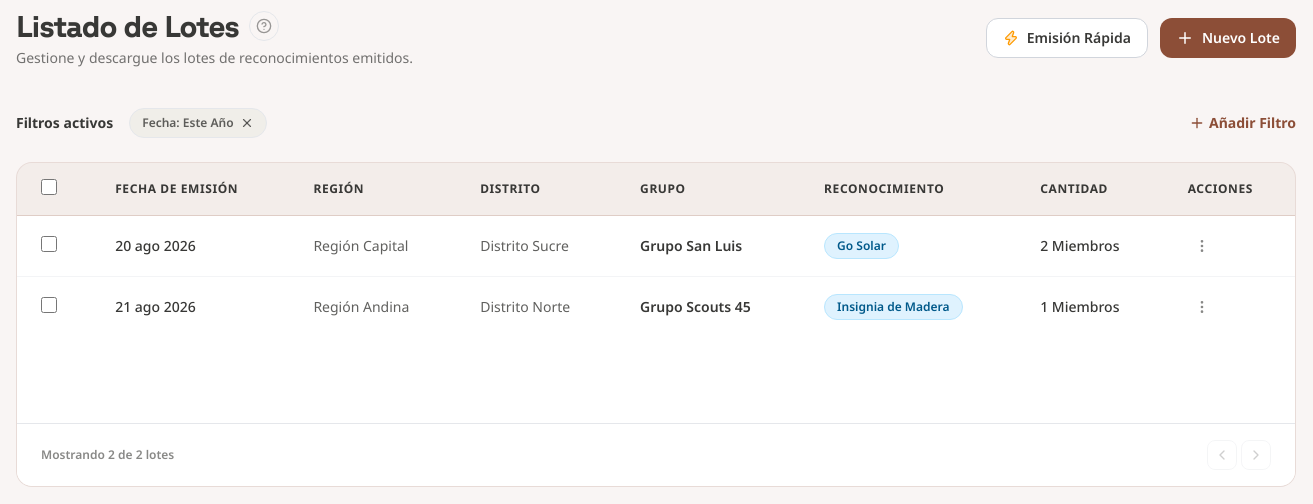
Test case: BatchList component › renders only single 3-dots actions button per row and no loose action icon buttons
Expected: the text "Grupo San Luis" is shown, [640,236,742,255]
Expected: the button named "Acciones del lote 102" is shown, [1188,293,1216,321]
Note: Open dropdown for row 101
Click the button named "Acciones del lote 101": (1202, 246) [1188,232,1216,260]
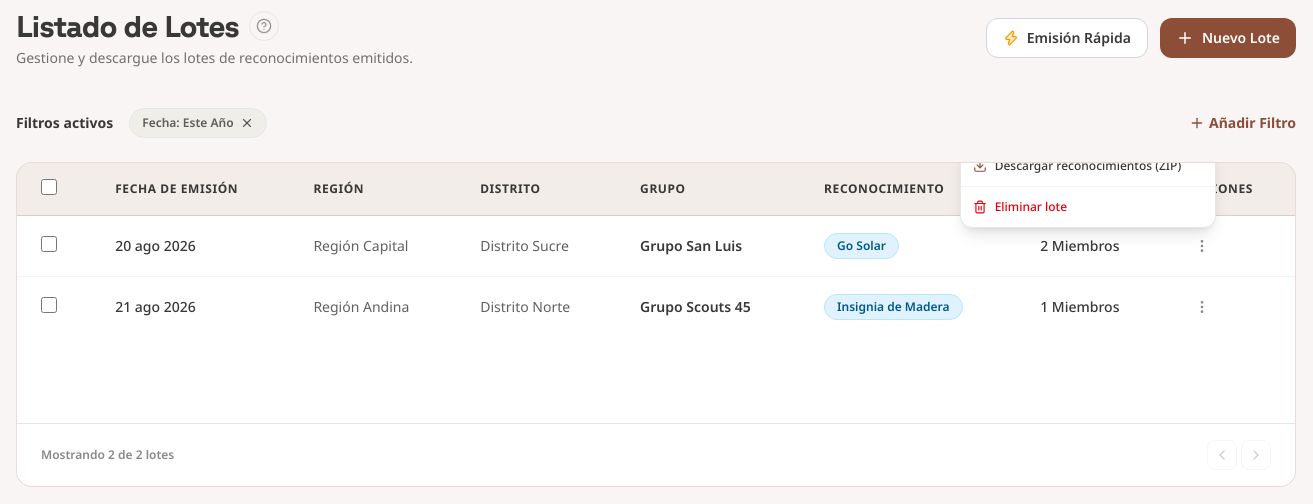
Expected: the button "Eliminar lote" is shown, [961,191,1215,223]
